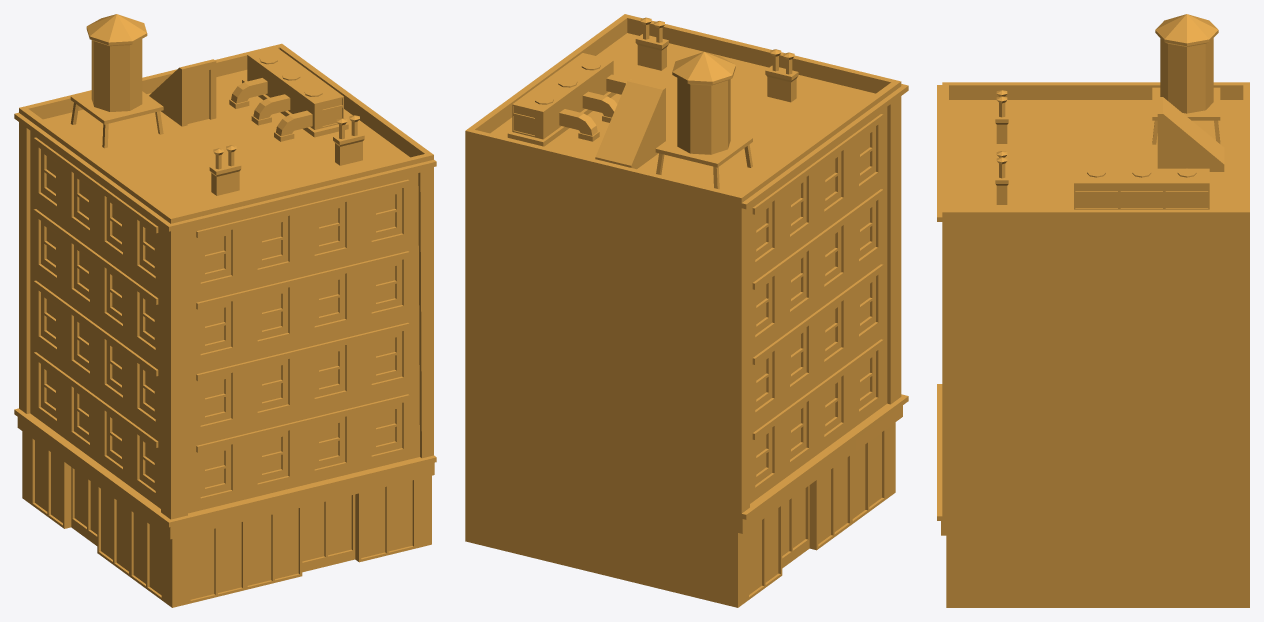
Rendered from building-block-4floor-corner.fbx.
The picture shows the model from 3 angles, left to right: view 1: azimuth 30°, elevation 25°; view 2: azimuth 150°, elevation 25°; view 3: azimuth 270°, elevation 25°; orthographic projection. The views are drawn at different scales.
Parts seen in each view (by area): view 1: building-block-4floor-corner; view 2: building-block-4floor-corner; view 3: building-block-4floor-corner.
Part boxes in pixels (x1,y1,x2,y2): building-block-4floor-corner: (14, 14, 436, 607); building-block-4floor-corner: (465, 14, 908, 607); building-block-4floor-corner: (937, 14, 1249, 607).
Bounding box in the file's own units: 11.75 × 20.61 × 11.75.
